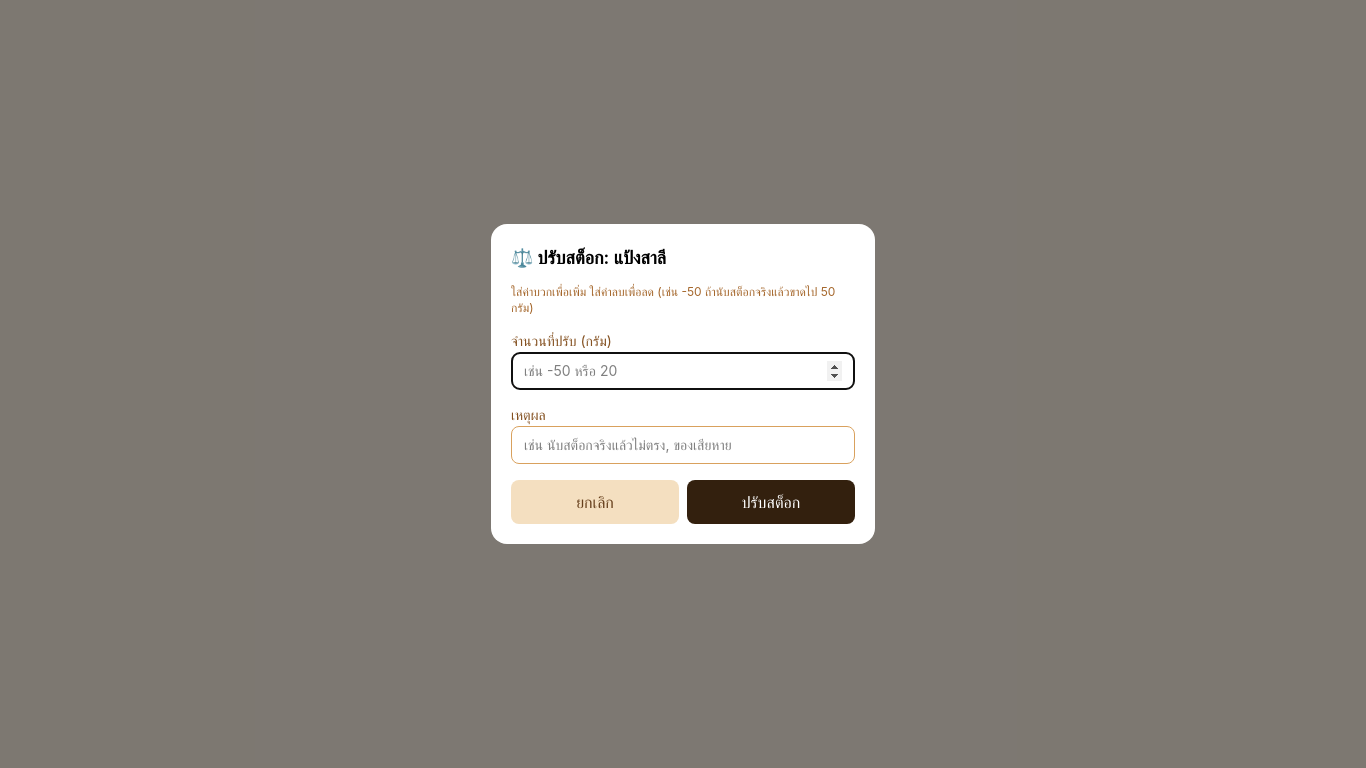
it: AdjustStockModal › กรอกจำนวนแต่ไม่กรอกเหตุผล ขึ้น error ไม่ยิง adjustIngredientStock
Type "-50" into the number field labelled "จำนวนที่ปรับ (กรัม)" at x=683, y=371, box [511,352,855,390]
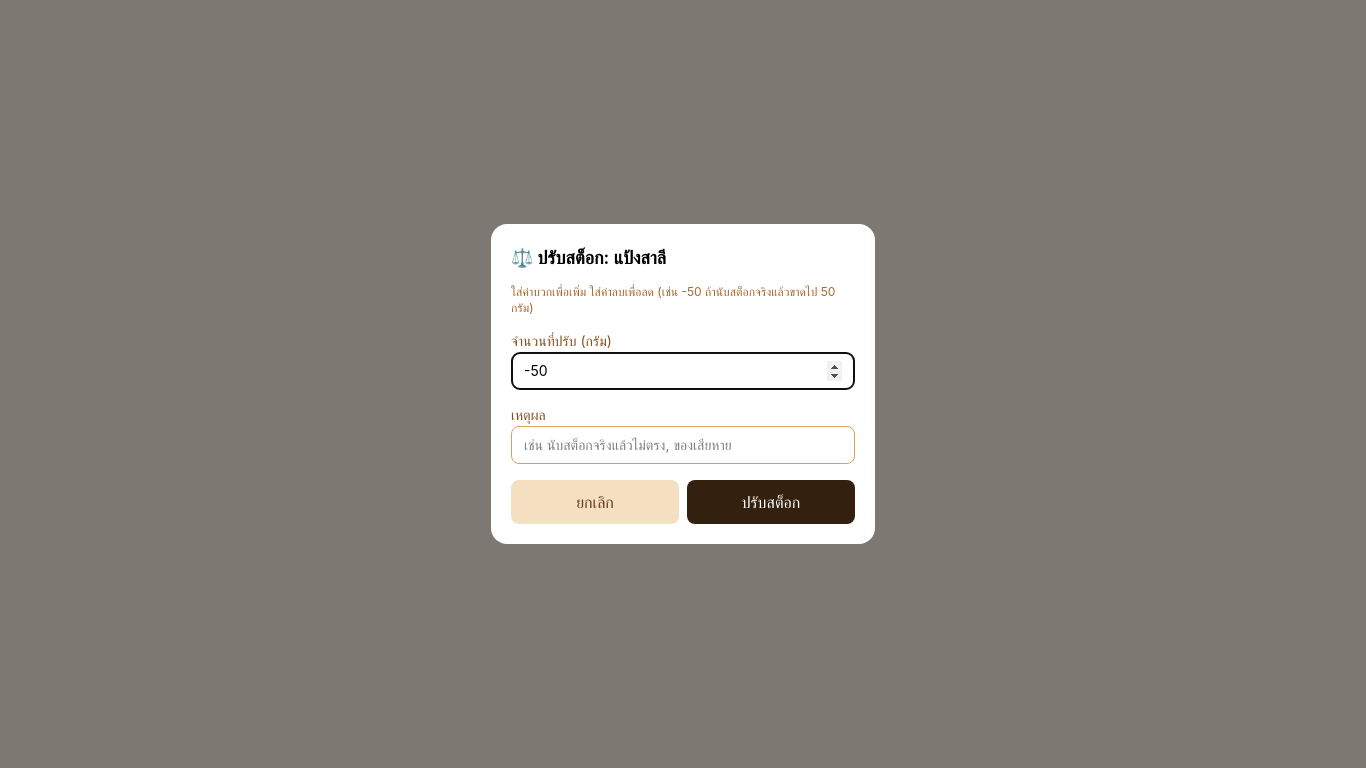
Click the button "ปรับสต็อก" at x=771, y=502, box [687,480,855,524]
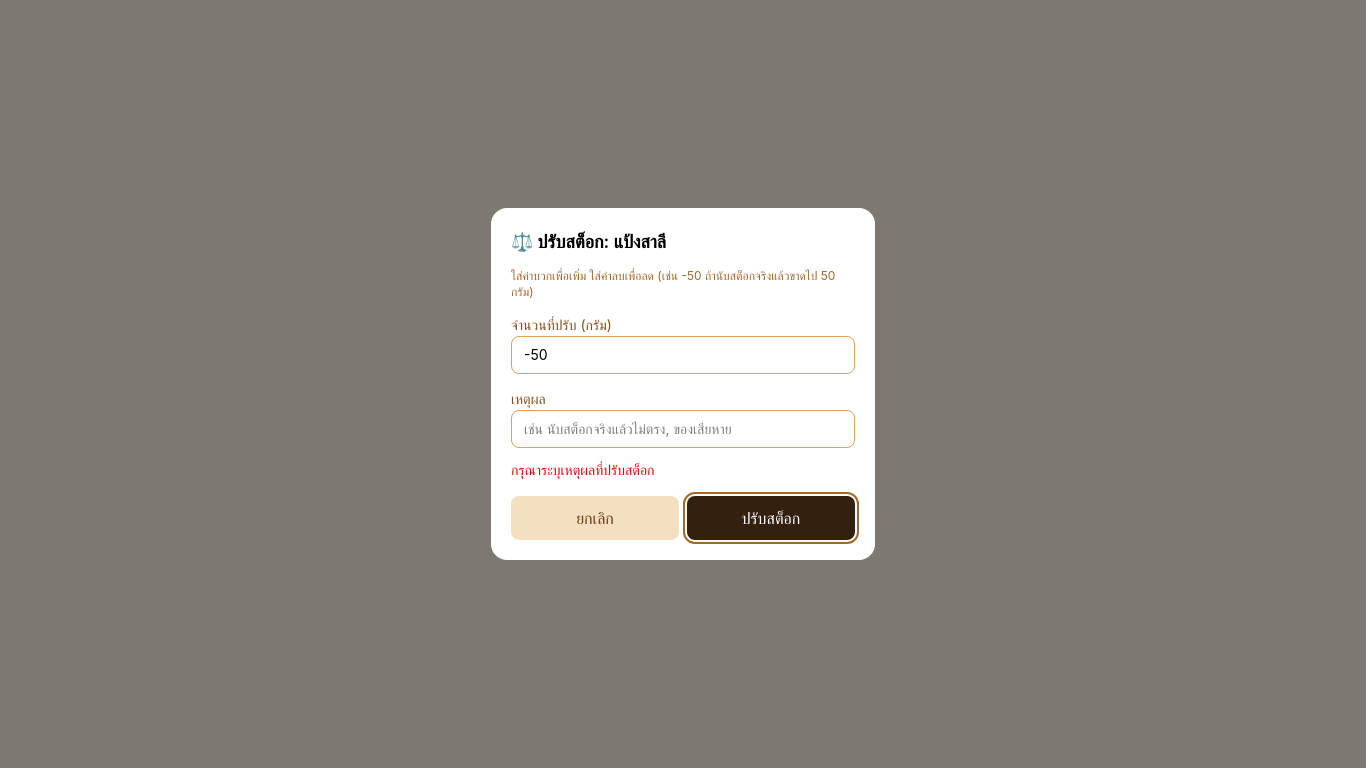
Now the text "กรุณาระบุเหตุผลที่ปรับสต็อก" is shown, box [511,461,655,478]
